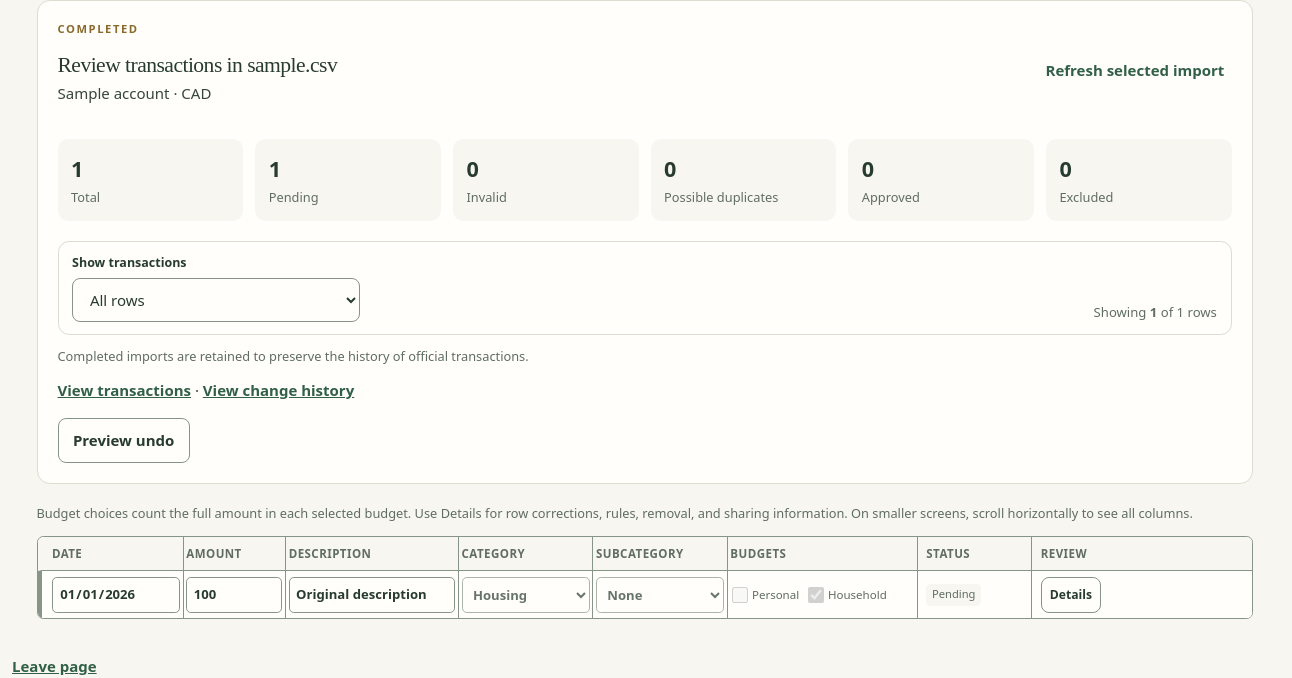
Scenario: staged import edit protection › confirms undo, protects a pending command, and updates the selected import without completing it again
The image size is (1292, 678).
(page scrolled)
Click the button "Preview undo" at (124,440), box [58, 418, 190, 463]
(page scrolled)
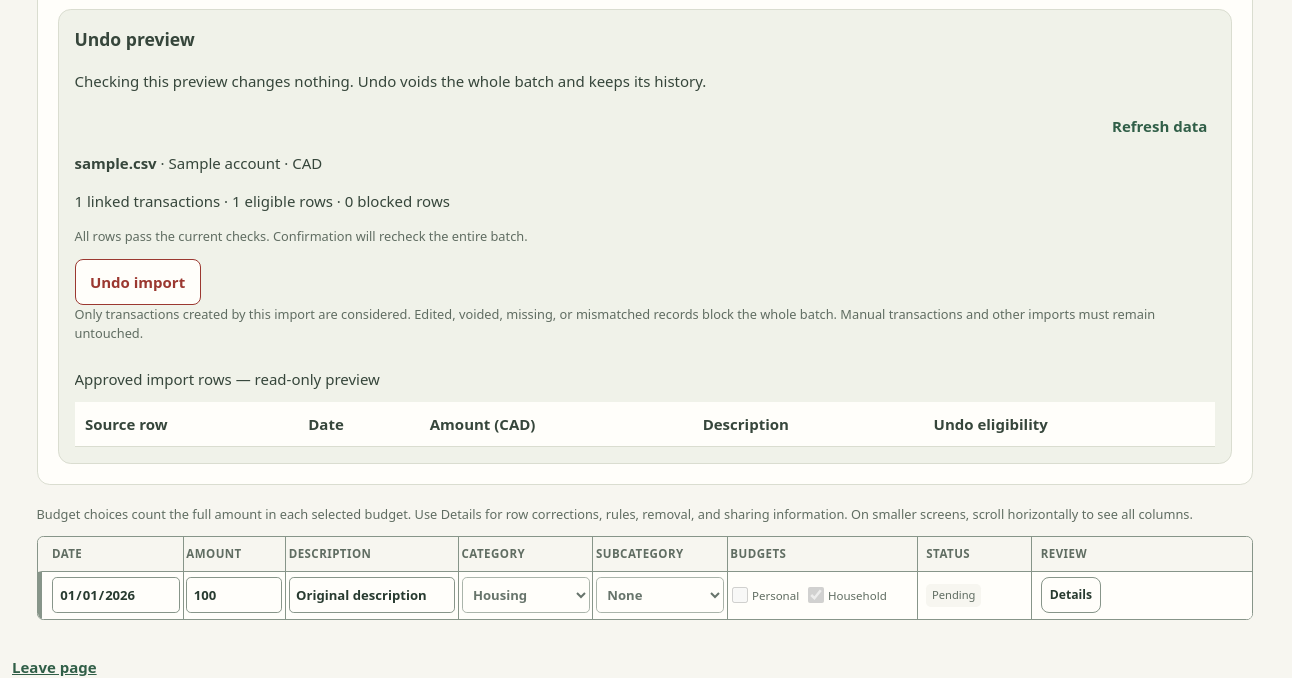
Click the button "Undo import" at (138,282), box [74, 259, 201, 305]
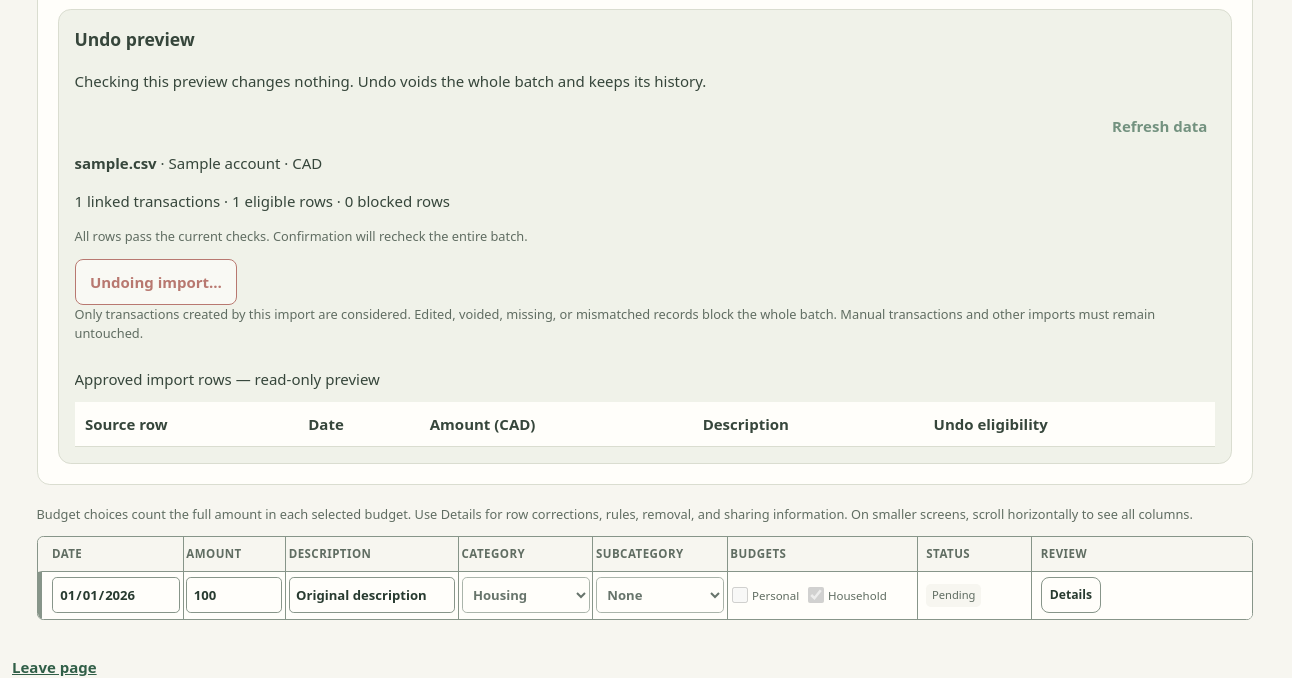
Click the link "Leave page" at (54,667), box [12, 657, 97, 677]
(page scrolled)
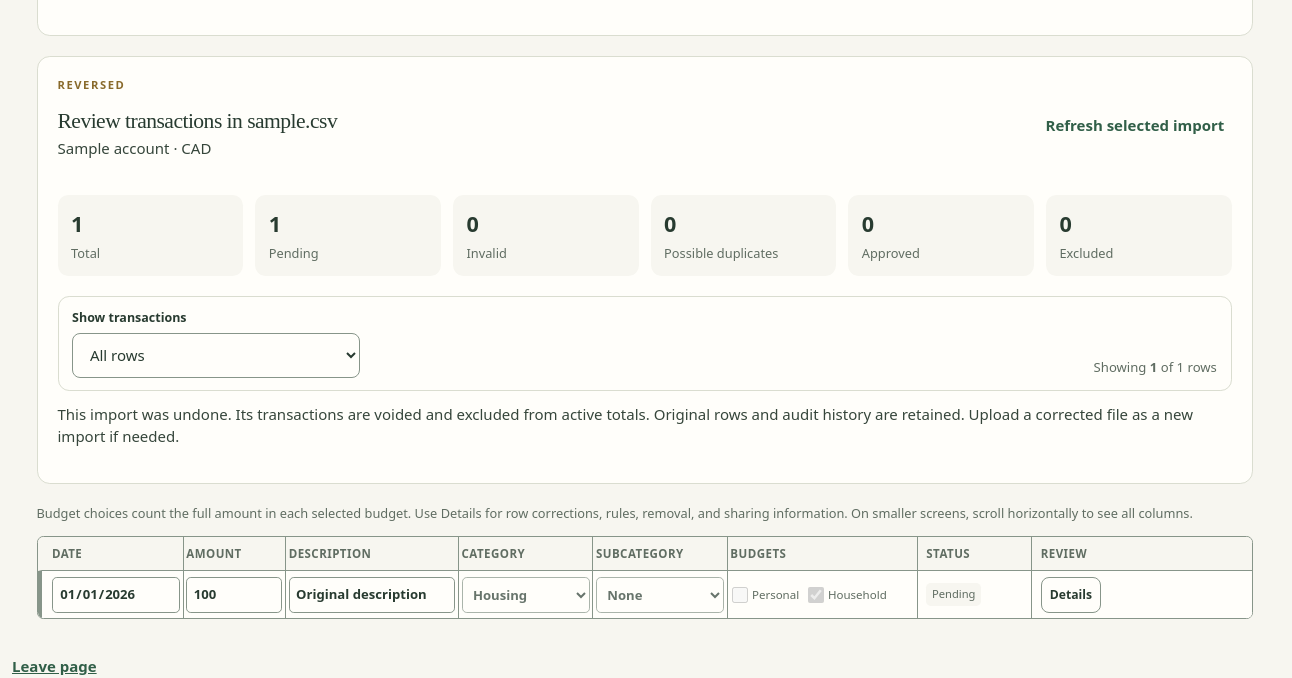
expect the text "This import was undone. Its transactions are voided" is shown: met, box [58, 404, 1193, 446]
